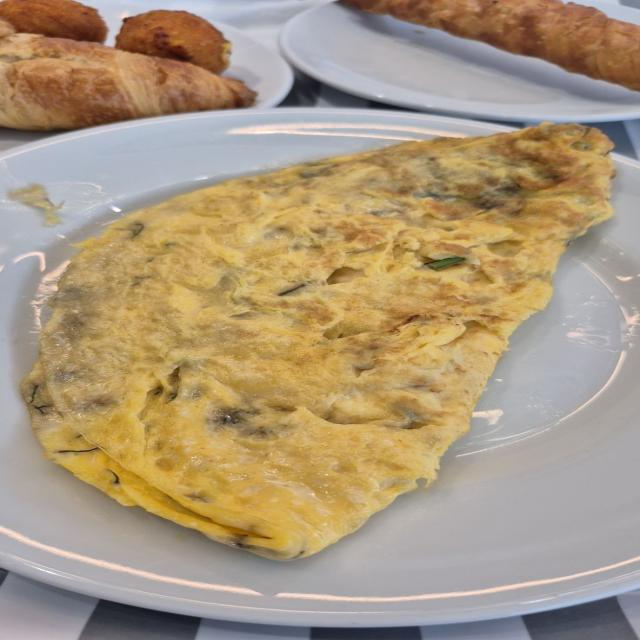omelette: (23, 124, 612, 559)
